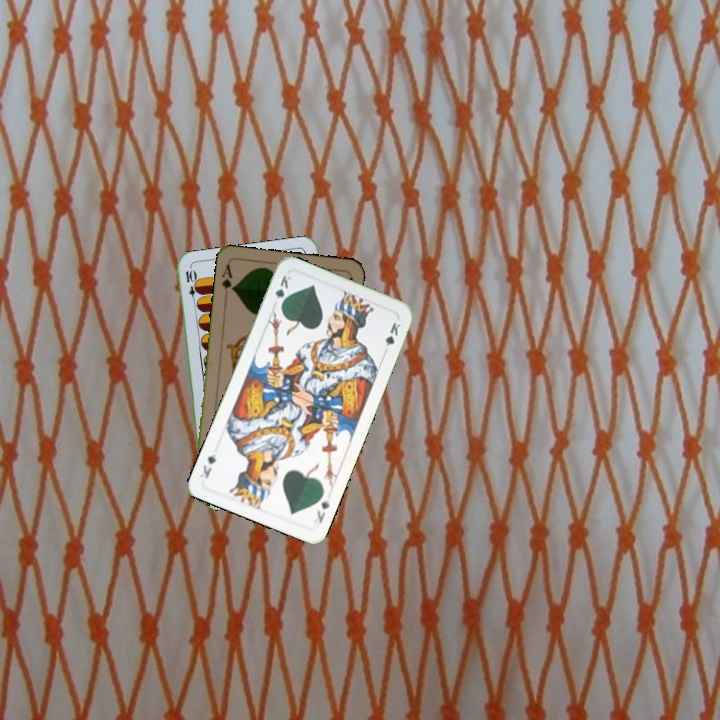E10: (181, 266, 200, 306)
GA: (218, 260, 237, 301)
GK: (271, 271, 294, 310), (309, 494, 332, 527)
